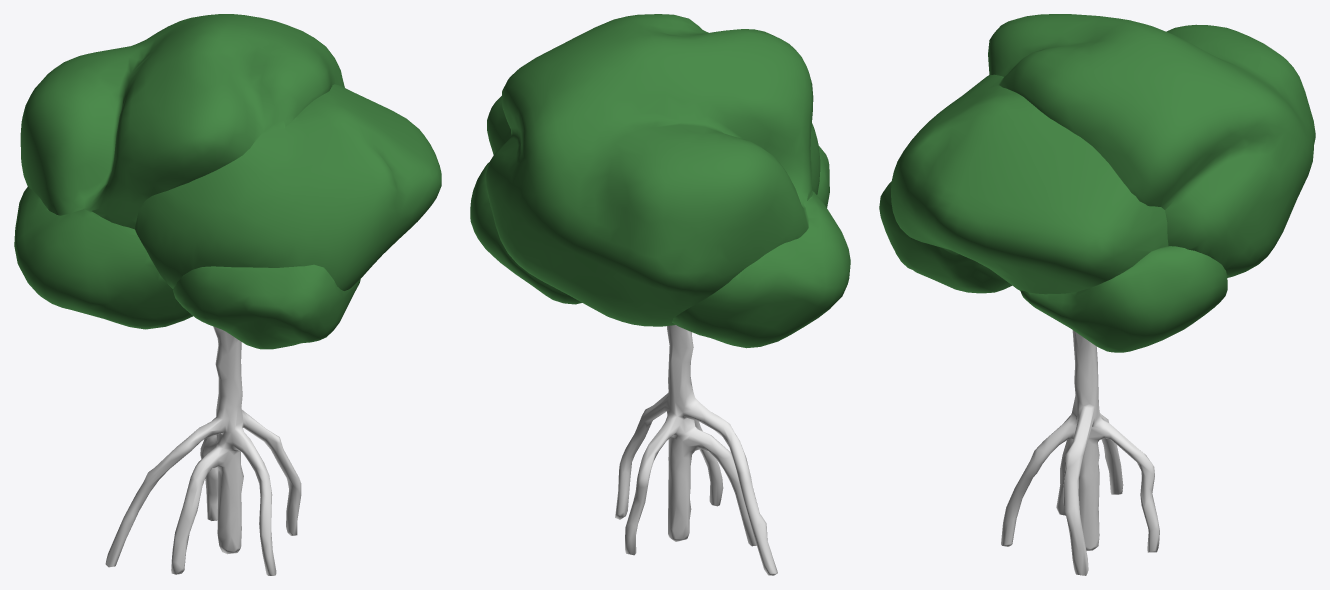
The model's file is mangrove_tree_1.fbx.
3 views of the same model, side by side, from view 1: azimuth 30°, elevation 25°; view 2: azimuth 150°, elevation 25°; view 3: azimuth 270°, elevation 25° (orthographic). The views are drawn at different scales.
Parts seen in each view (by area): view 1: tree_1_lo1; view 2: tree_1_lo1; view 3: tree_1_lo1.
Boxes of the visible parts, x1,y1,x2,y2 form: tree_1_lo1: (14,14,441,575); tree_1_lo1: (470,14,850,575); tree_1_lo1: (879,14,1315,575).
Bounding box in the file's own units: 394 × 520 × 393.
